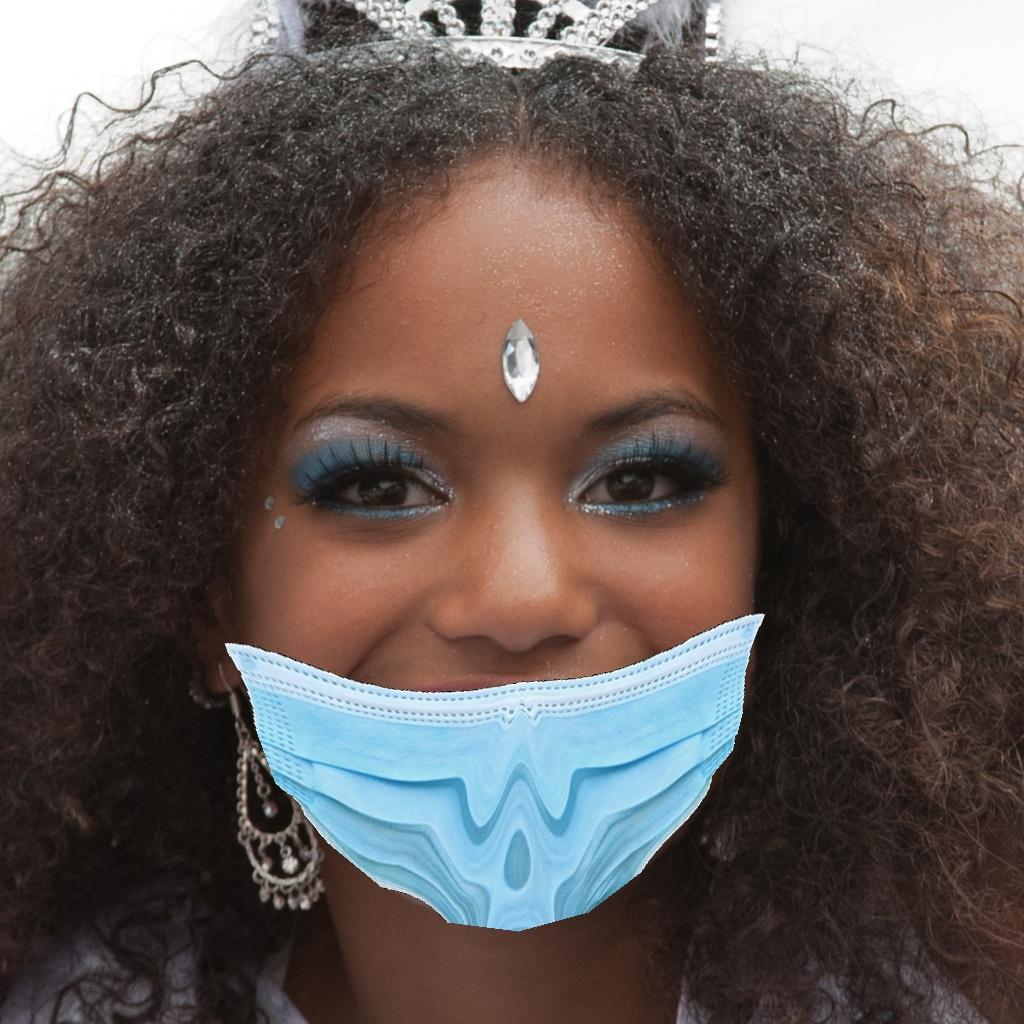Máscara Incorreta: (255, 273, 754, 901)
